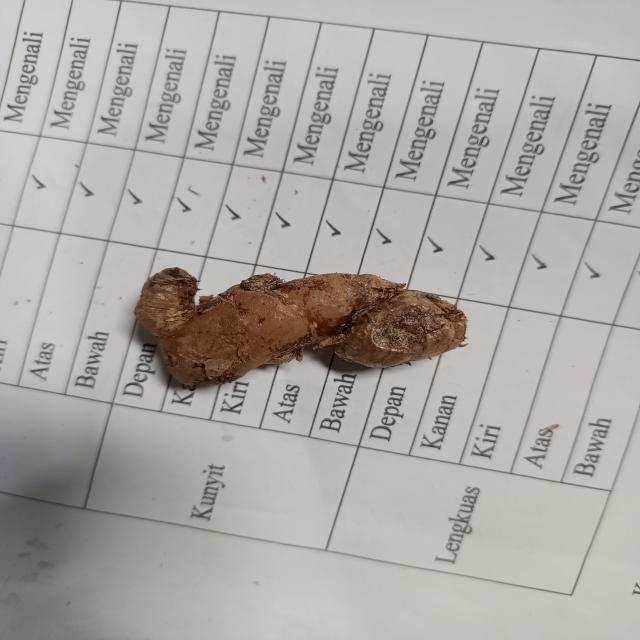ginger: (138, 267, 466, 377)
